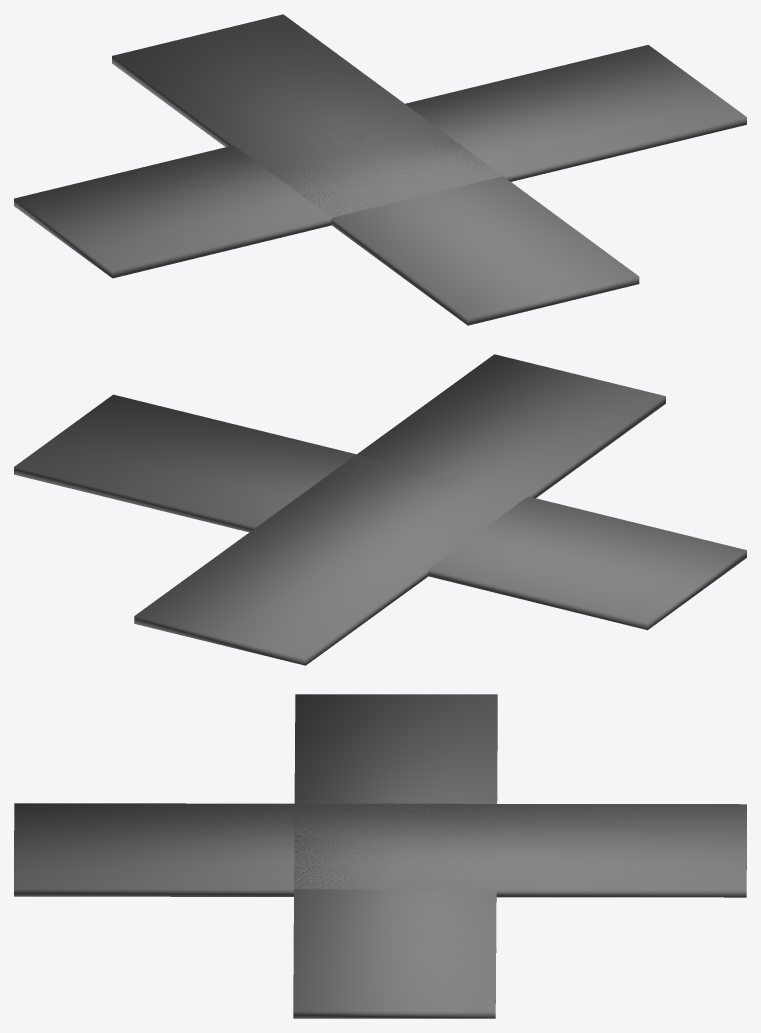
File: road.obj
3 renders of one model, top to bottom at view 1: azimuth 30°, elevation 25°; view 2: azimuth 150°, elevation 25°; view 3: azimuth 270°, elevation 25°, orthographic. The views are drawn at different scales.
Parts seen in each view (by area): view 1: Line002; view 2: Line002; view 3: Line002.
Boxes of the visible parts, x1,y1,x2,y2 form: Line002: (14, 14, 746, 325); Line002: (14, 354, 746, 665); Line002: (14, 694, 746, 1018).
Size of the model in its own units: 48.23 by 0.5527 by 47.17.
1 material, 1 textured.
